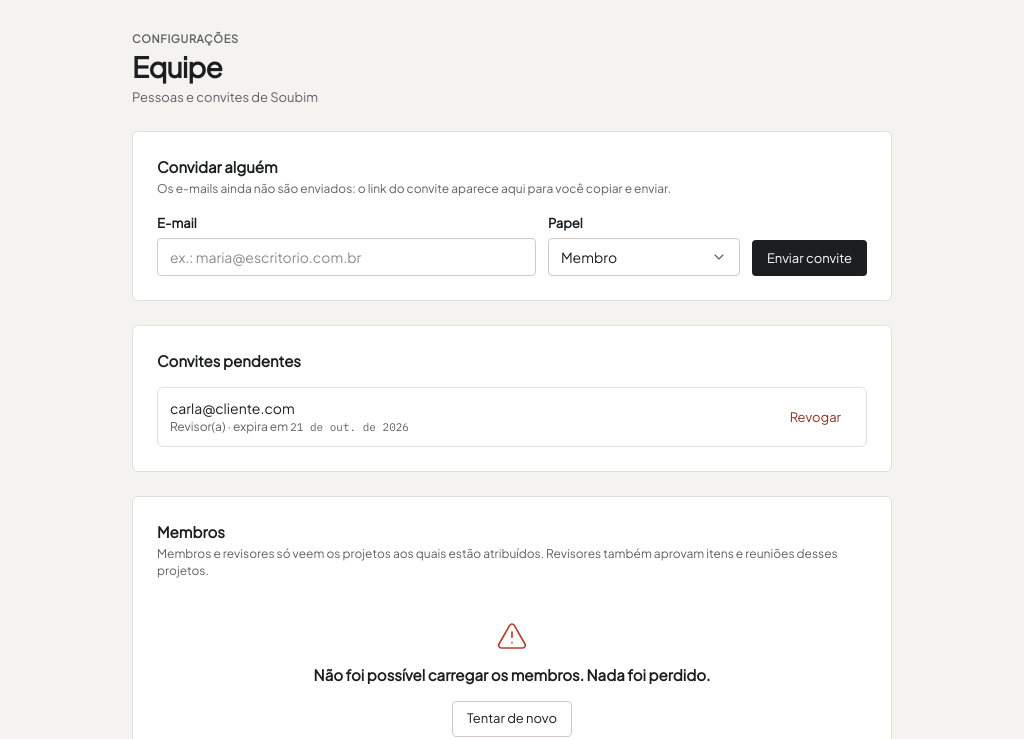
Test: Phase 4c — Equipe e Plataforma (pt-BR) › Equipe › shows an error with "Tentar de novo" when the members do not load
The width and height of the screenshot is (1024, 739).
Expected: the heading "Não foi possível carregar os membros. Nada foi perdido." is shown, [314,664,710,685]
Click the button "Tentar de novo" at x=512, y=719, box [452,701,572,737]
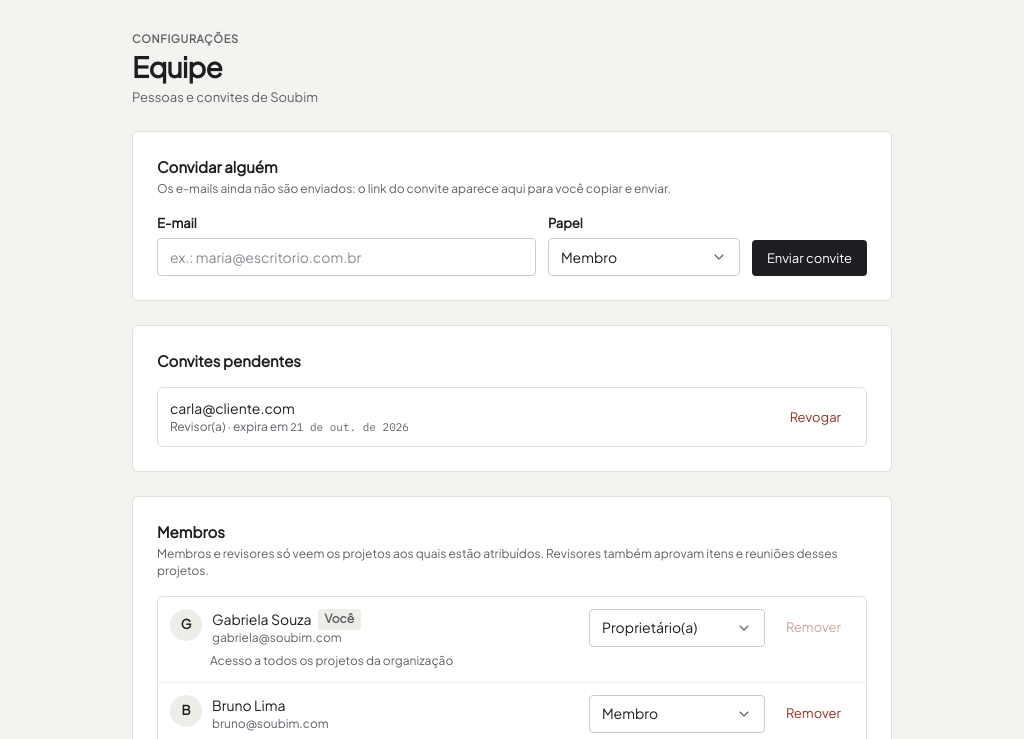
Result: the text "Bruno Lima" is shown at [212,695,285,716]
